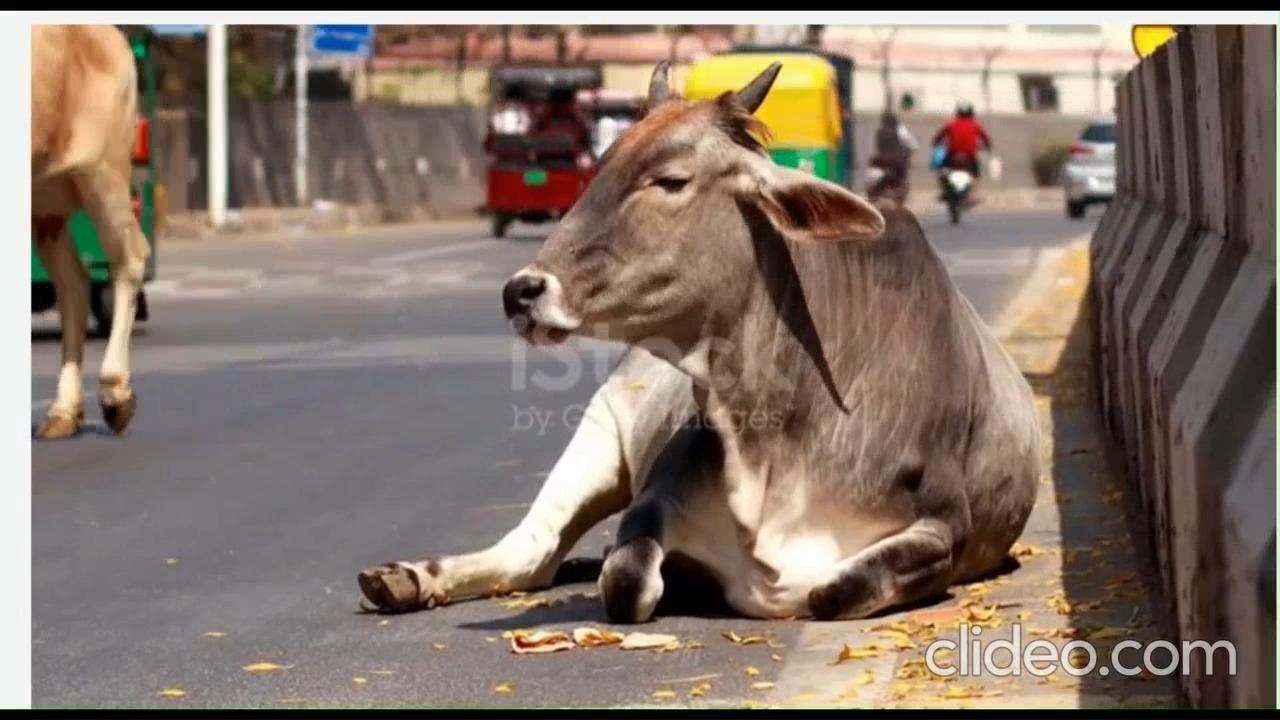Cow: (354, 54, 1049, 627)
